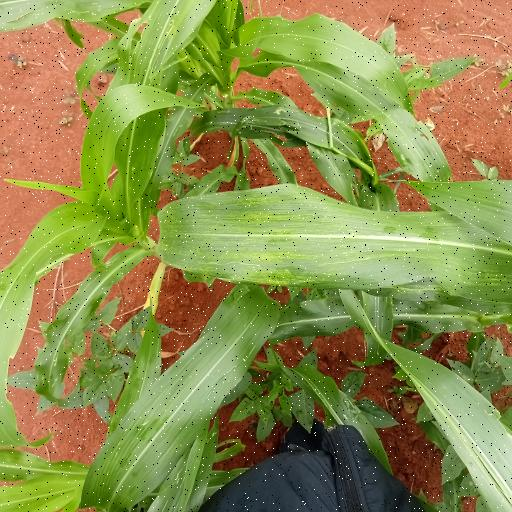Corn_Brown_Spots: (160, 186, 512, 301)
